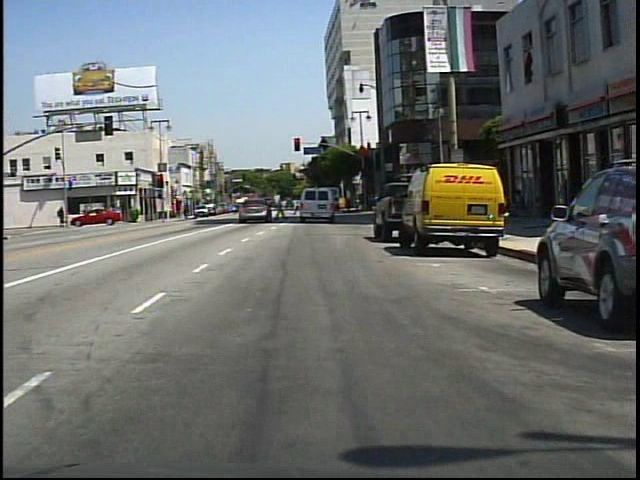person: (507, 182, 532, 224), (272, 193, 290, 224), (289, 196, 299, 218), (58, 205, 67, 225)
